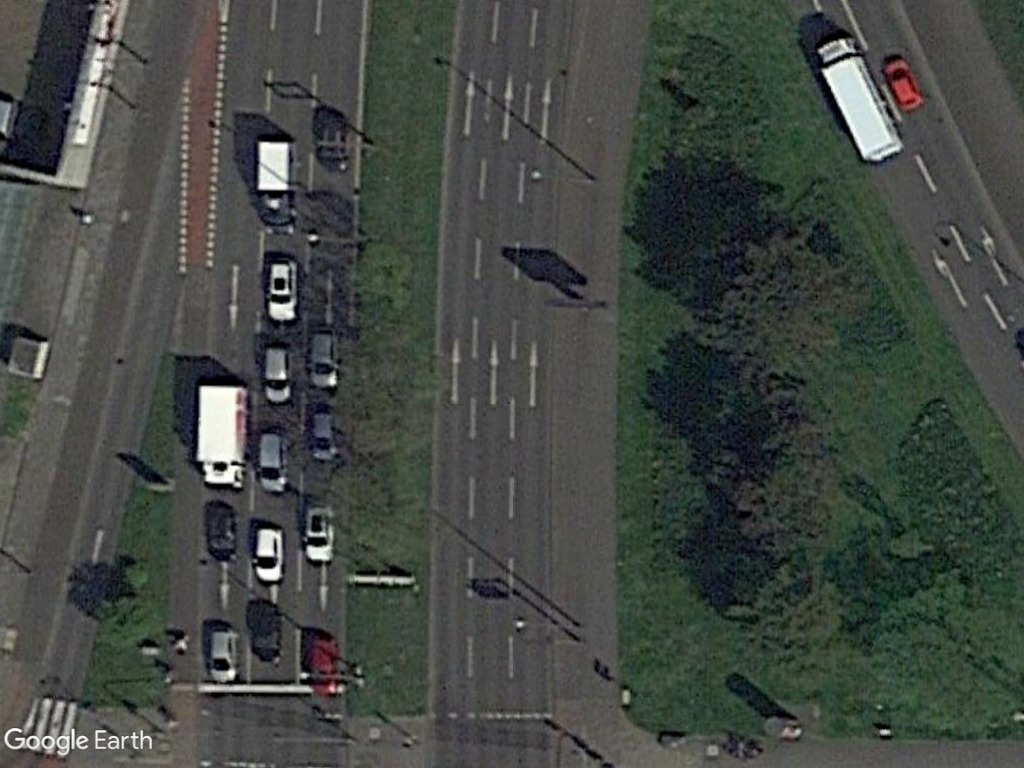car: (874, 47, 933, 115), (256, 250, 302, 327), (301, 490, 342, 576), (254, 418, 295, 502), (253, 335, 294, 411), (200, 614, 242, 687), (245, 516, 288, 585), (303, 323, 342, 392)
truck: (812, 28, 906, 177), (186, 377, 250, 492)
